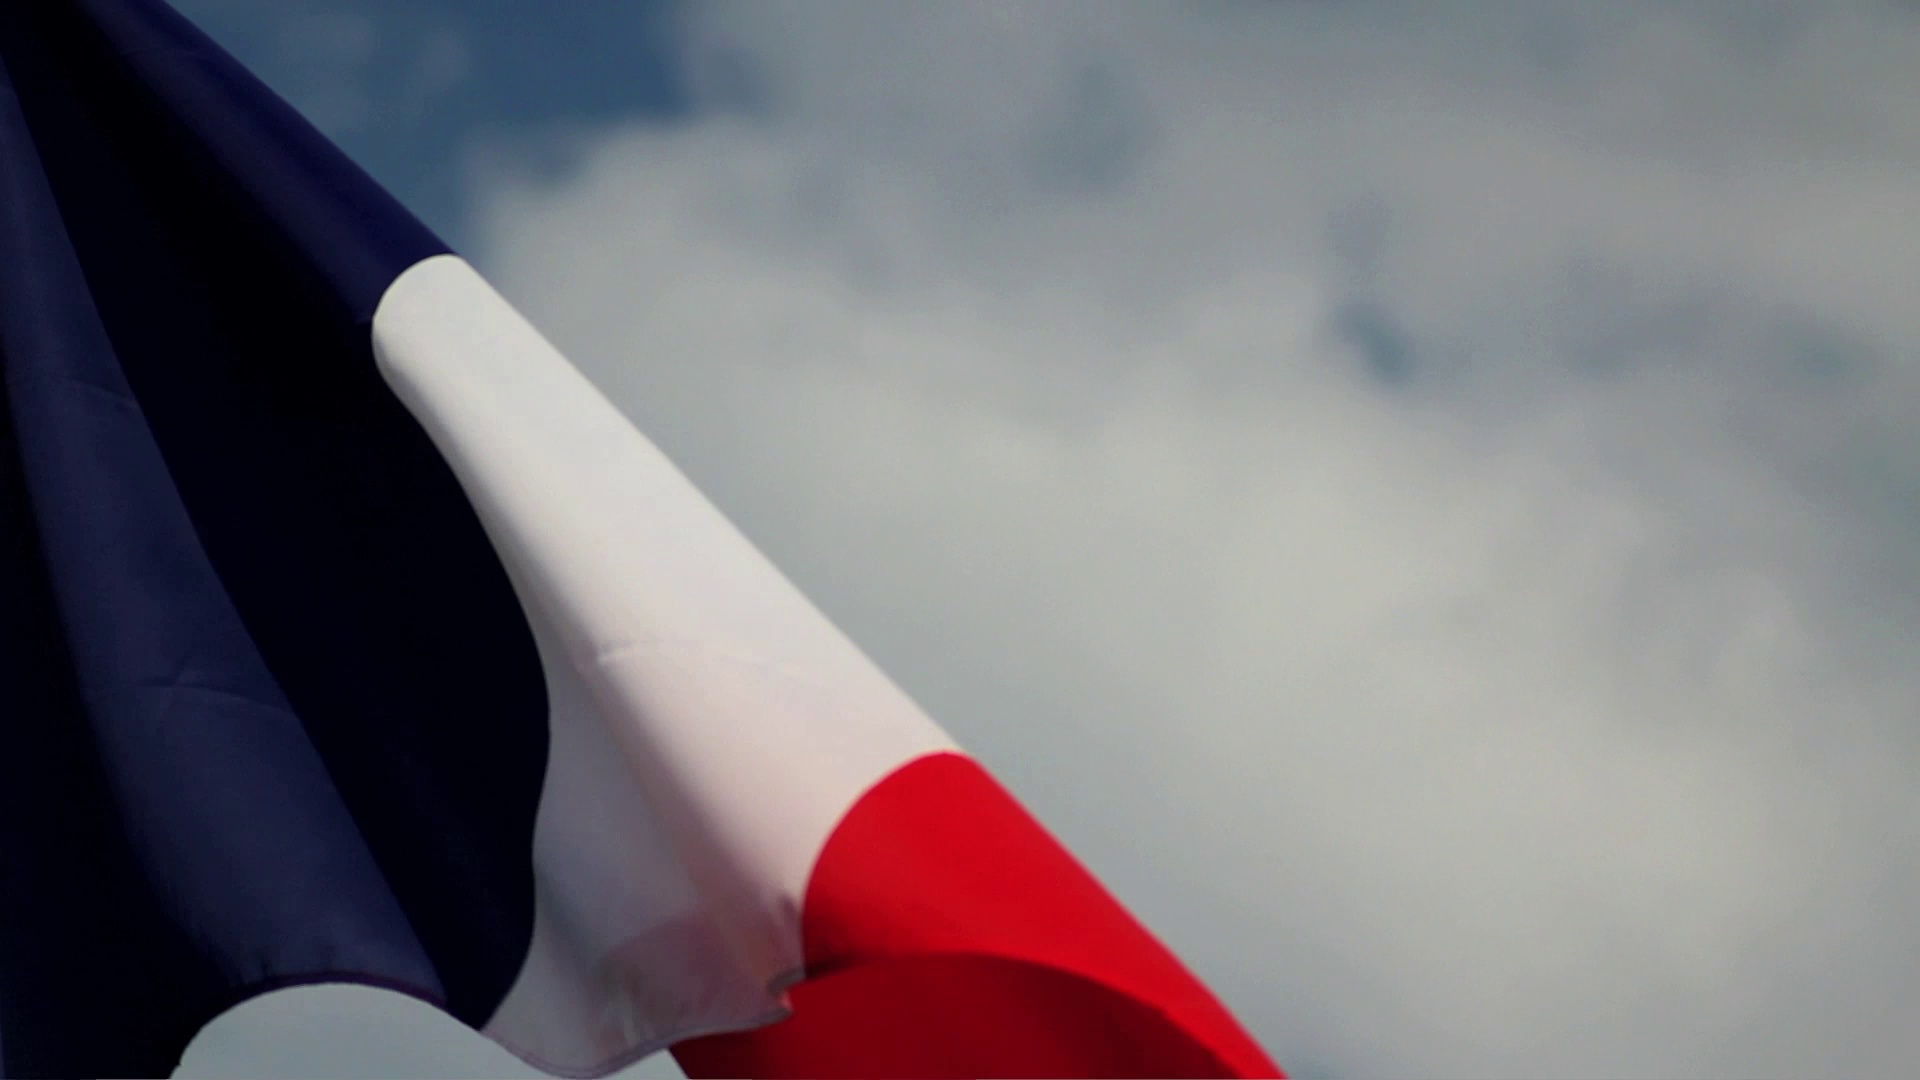French Flag: (1, 1, 1288, 1080)
